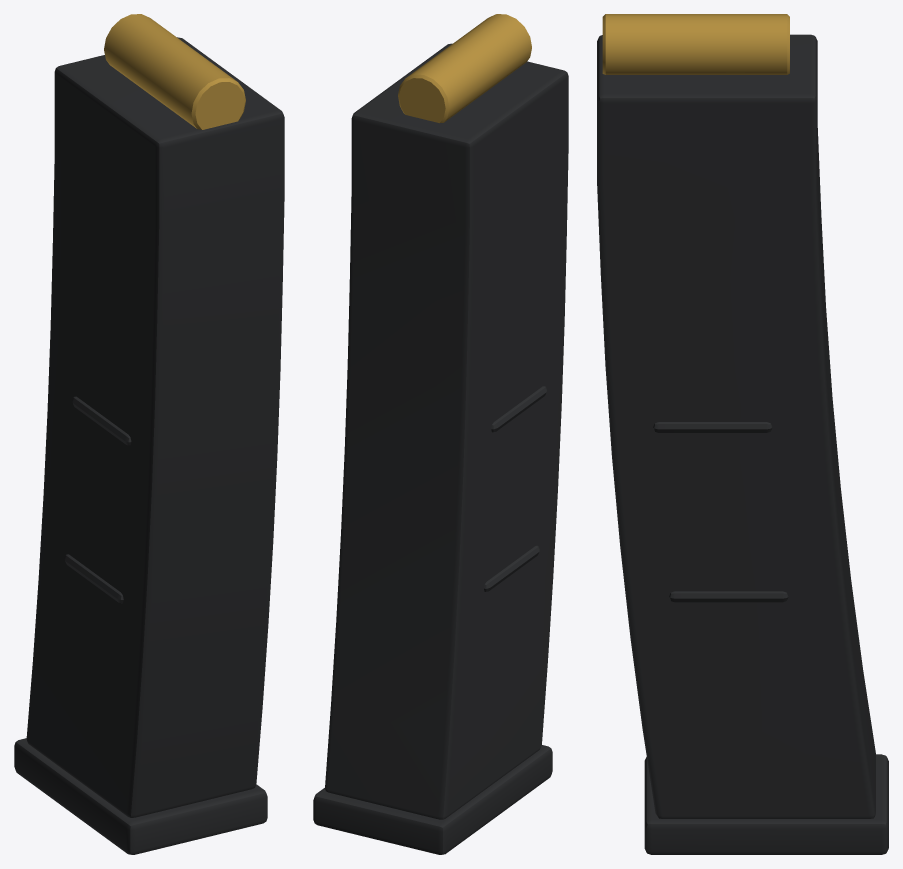
File: mod_osprey_extended_mag.glb
3 views of the same model, side by side, from view 1: azimuth 30°, elevation 25°; view 2: azimuth 150°, elevation 25°; view 3: azimuth 270°, elevation 25° (orthographic). The views are drawn at different scales.
Visible parts, largest first — view 1: Magazine, MagazineRound; view 2: Magazine, MagazineRound; view 3: Magazine, MagazineRound.
Part boxes in pixels (box(x1,y1,x2,y2)): Magazine: box(14, 37, 284, 854); MagazineRound: box(104, 14, 245, 129); Magazine: box(313, 43, 568, 854); MagazineRound: box(398, 14, 531, 123); Magazine: box(597, 34, 888, 854); MagazineRound: box(602, 14, 789, 74).
Size of the model in its own units: 0.0284 by 0.1498 by 0.0492.
